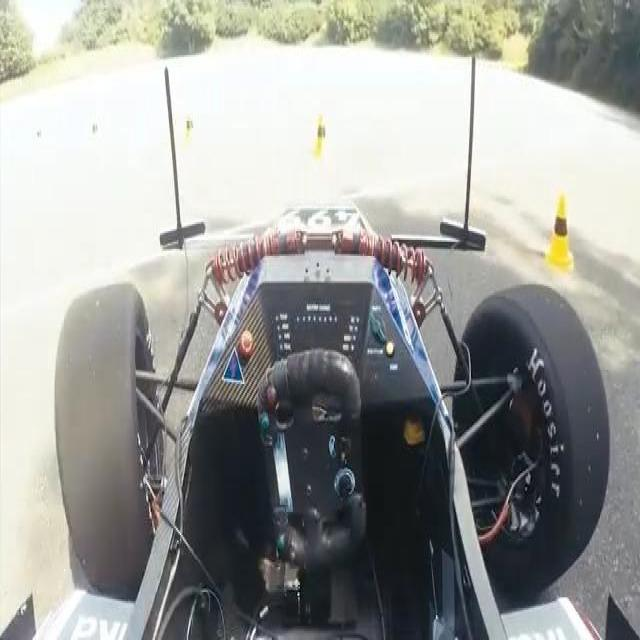yellow_cone: (545, 192, 573, 270), (314, 112, 331, 160)
